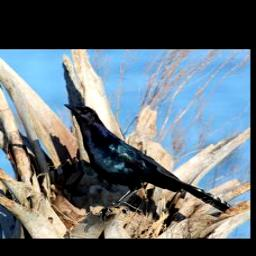Crow: (63, 103, 230, 221)
